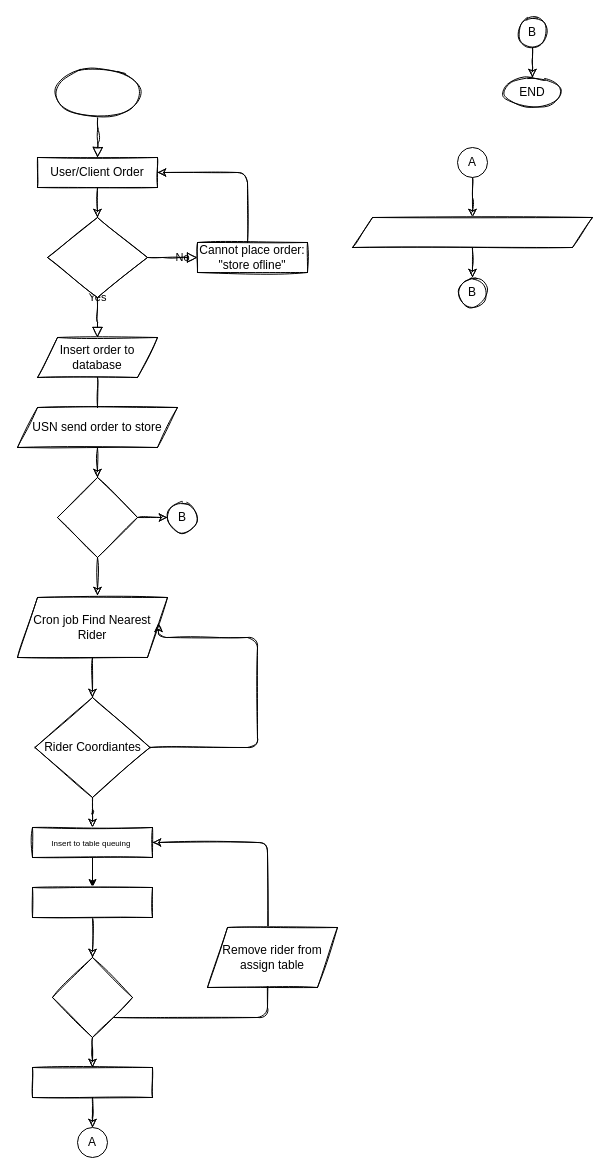
The diagram is 610 pixels wide and 1175 high, and some of its shapes have lost their labels. The shapes that lost their labels are listed below. From the top down, each one's centre as x and y in pixels, then its label:
point 97,92: Start
point 472,232: USN send status of order to user
point 97,257: Is store online
point 97,517: Accept?
point 92,902: Insert to table assign
point 92,997: Rider accpet
point 92,1082: Update table assign to accepted
